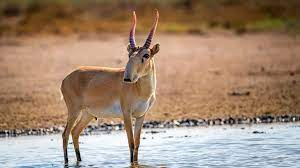saiga: (59, 8, 161, 168)
